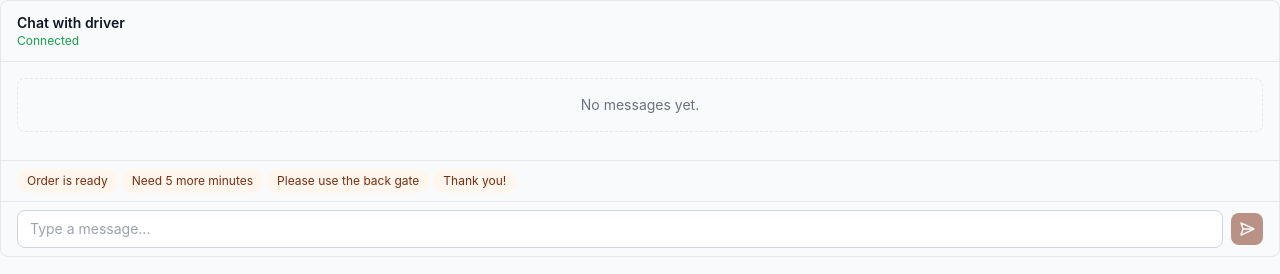
Test: OrderDriverChat › sends a message through the API before rendering it
The width and height of the screenshot is (1280, 274).
Expected: the text "No messages yet." is shown, [17,78,1263,132]
In the field labelled "message": (620,229) [17,210,1223,248], type "  Order is ready  "
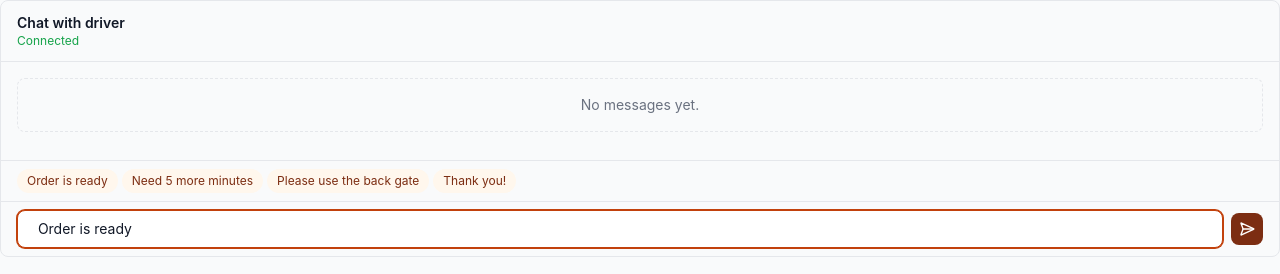
Click the button named "Send message": (1247,229) [1231,213,1263,245]
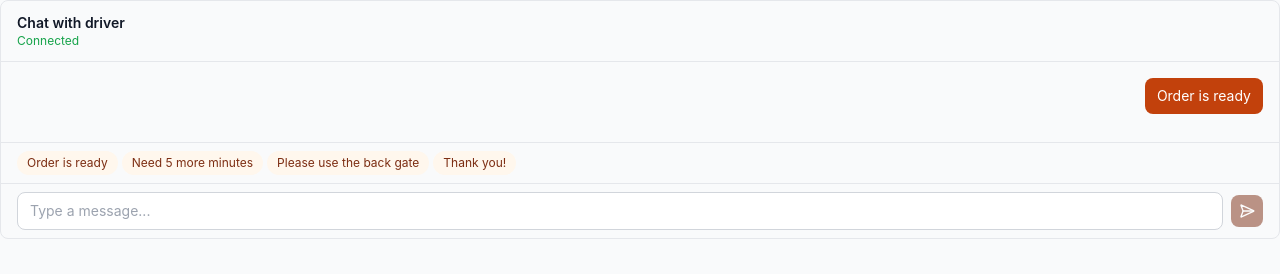
Expected: the text "Order is ready" is shown 2 times, [1145,78,1263,114]; [17,151,118,175]
